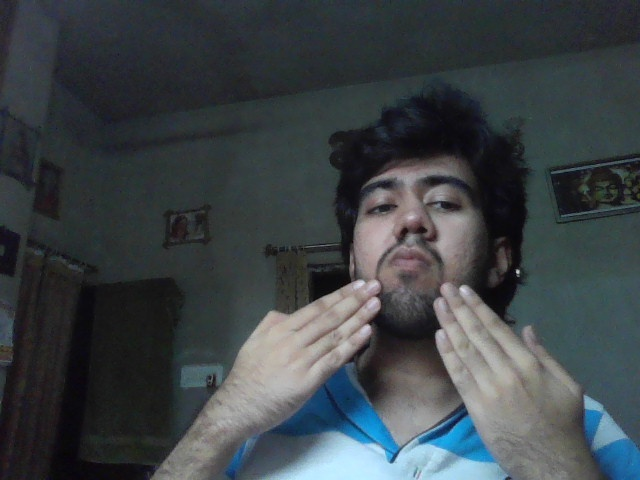ThankYou: (236, 278, 585, 449)
